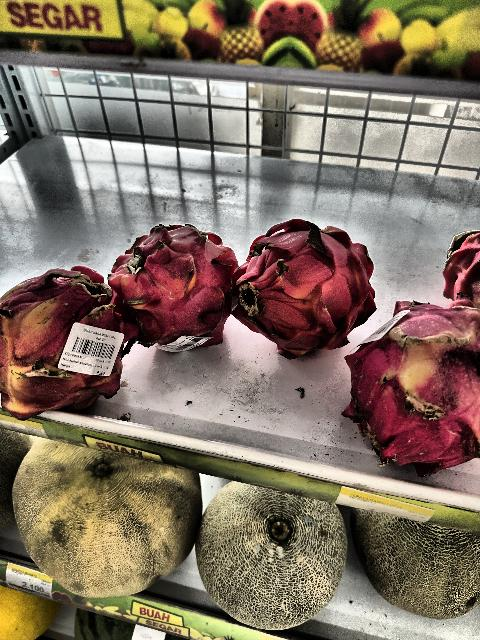buah-naga-belum-matang: (354, 300, 480, 484), (0, 258, 126, 426)
buah-naga-matang: (230, 214, 378, 368), (104, 217, 232, 355), (430, 226, 480, 310)
